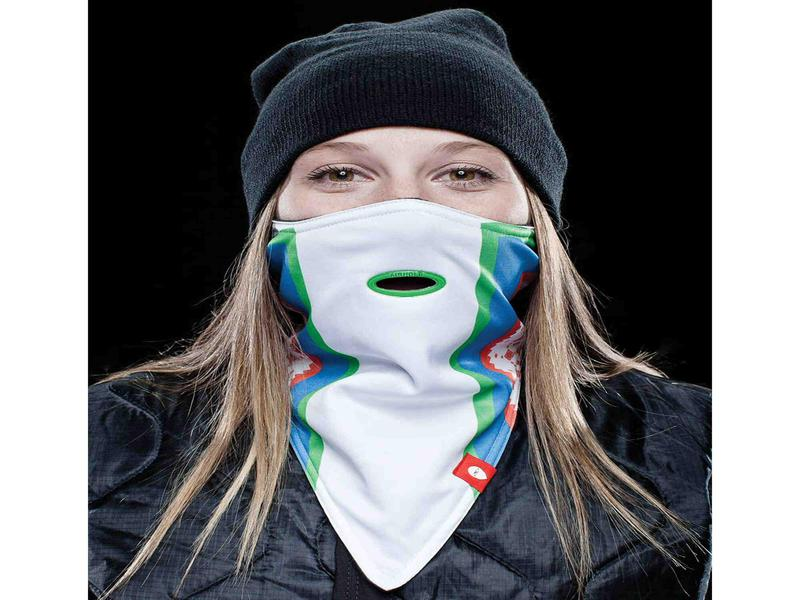with_mask: (267, 128, 537, 591)
